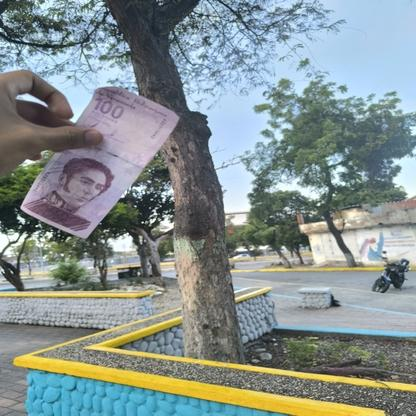one_hundred-front-vef: (20, 84, 180, 240)
